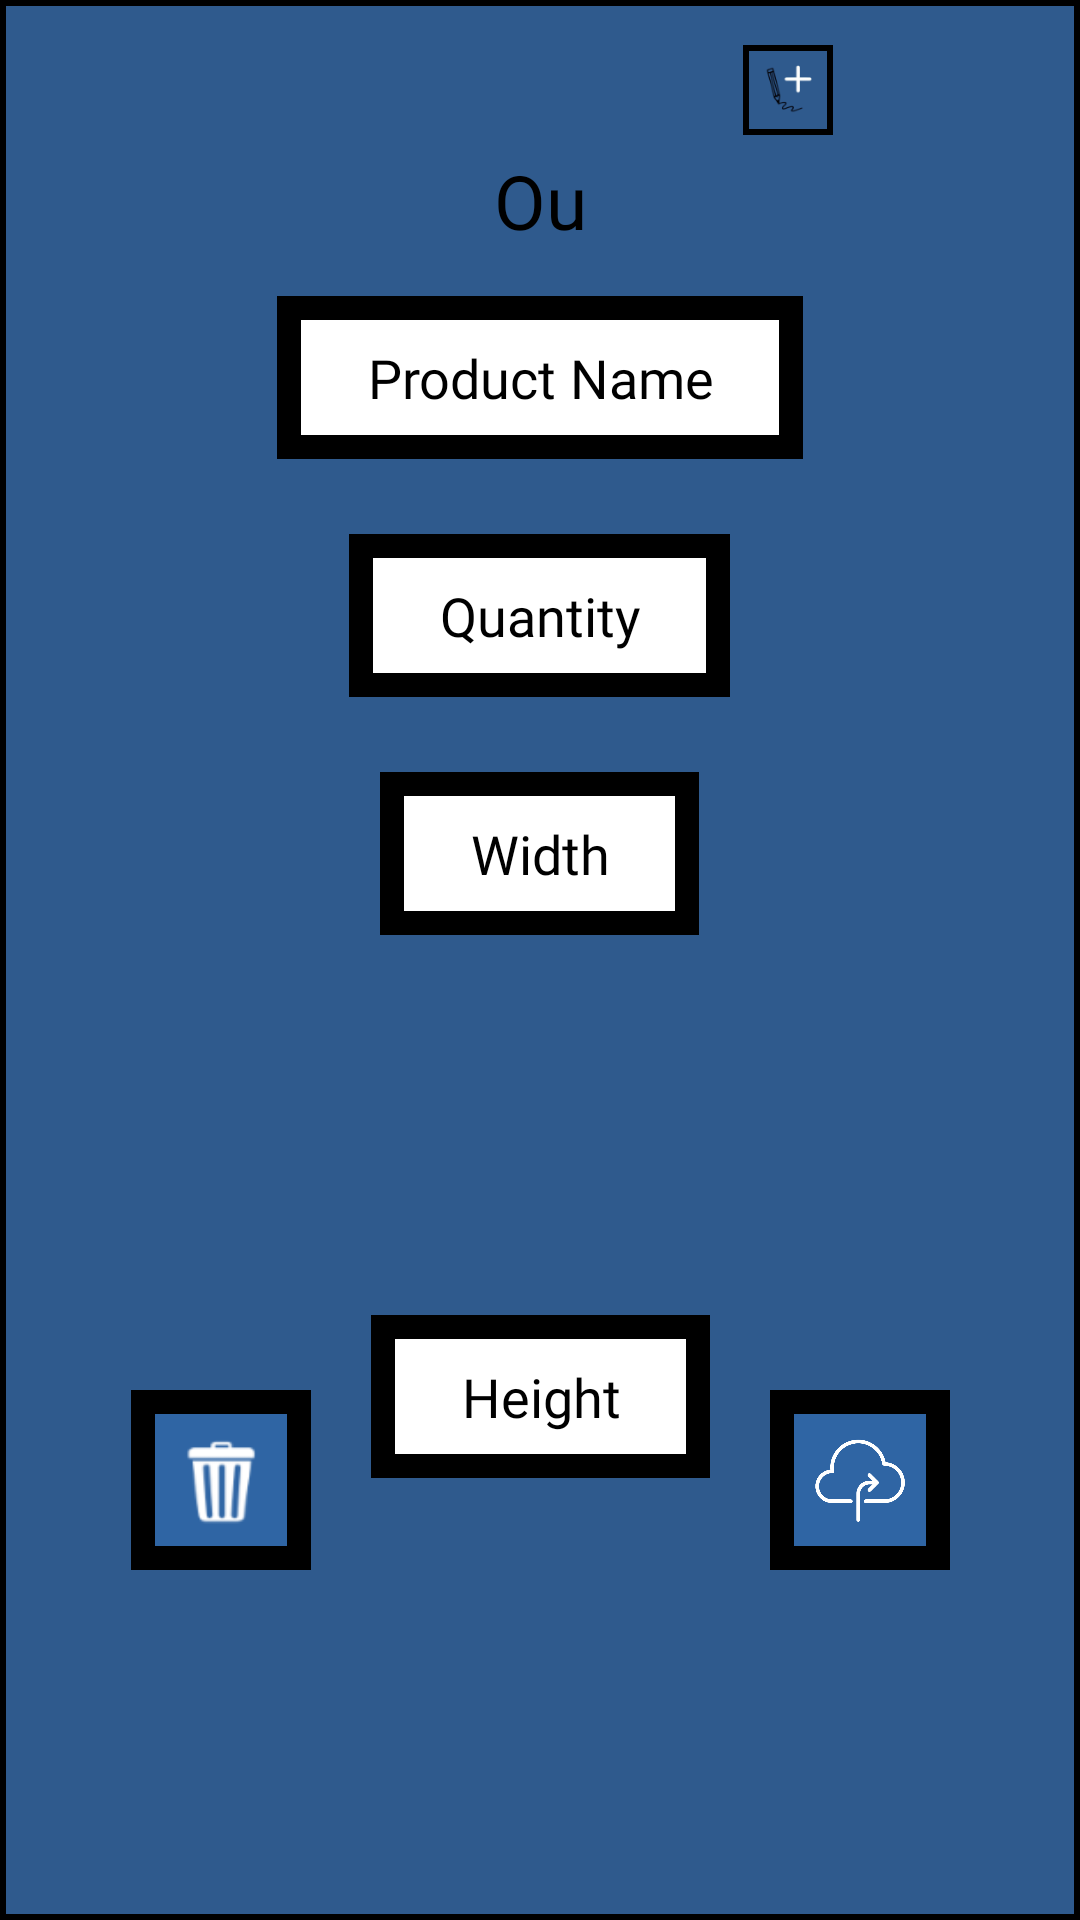

Icons on this 1080px x 1920px Android screen, each with its box as (x1=x1, y1=y1, x2=x2, y2=y2):
lixeira: (x1=131, y1=1390, x2=311, y2=1570)
nuvemr: (x1=770, y1=1390, x2=950, y2=1570)
